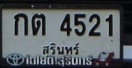txt01: (12, 12, 29, 37)
txt16: (29, 12, 47, 37)
